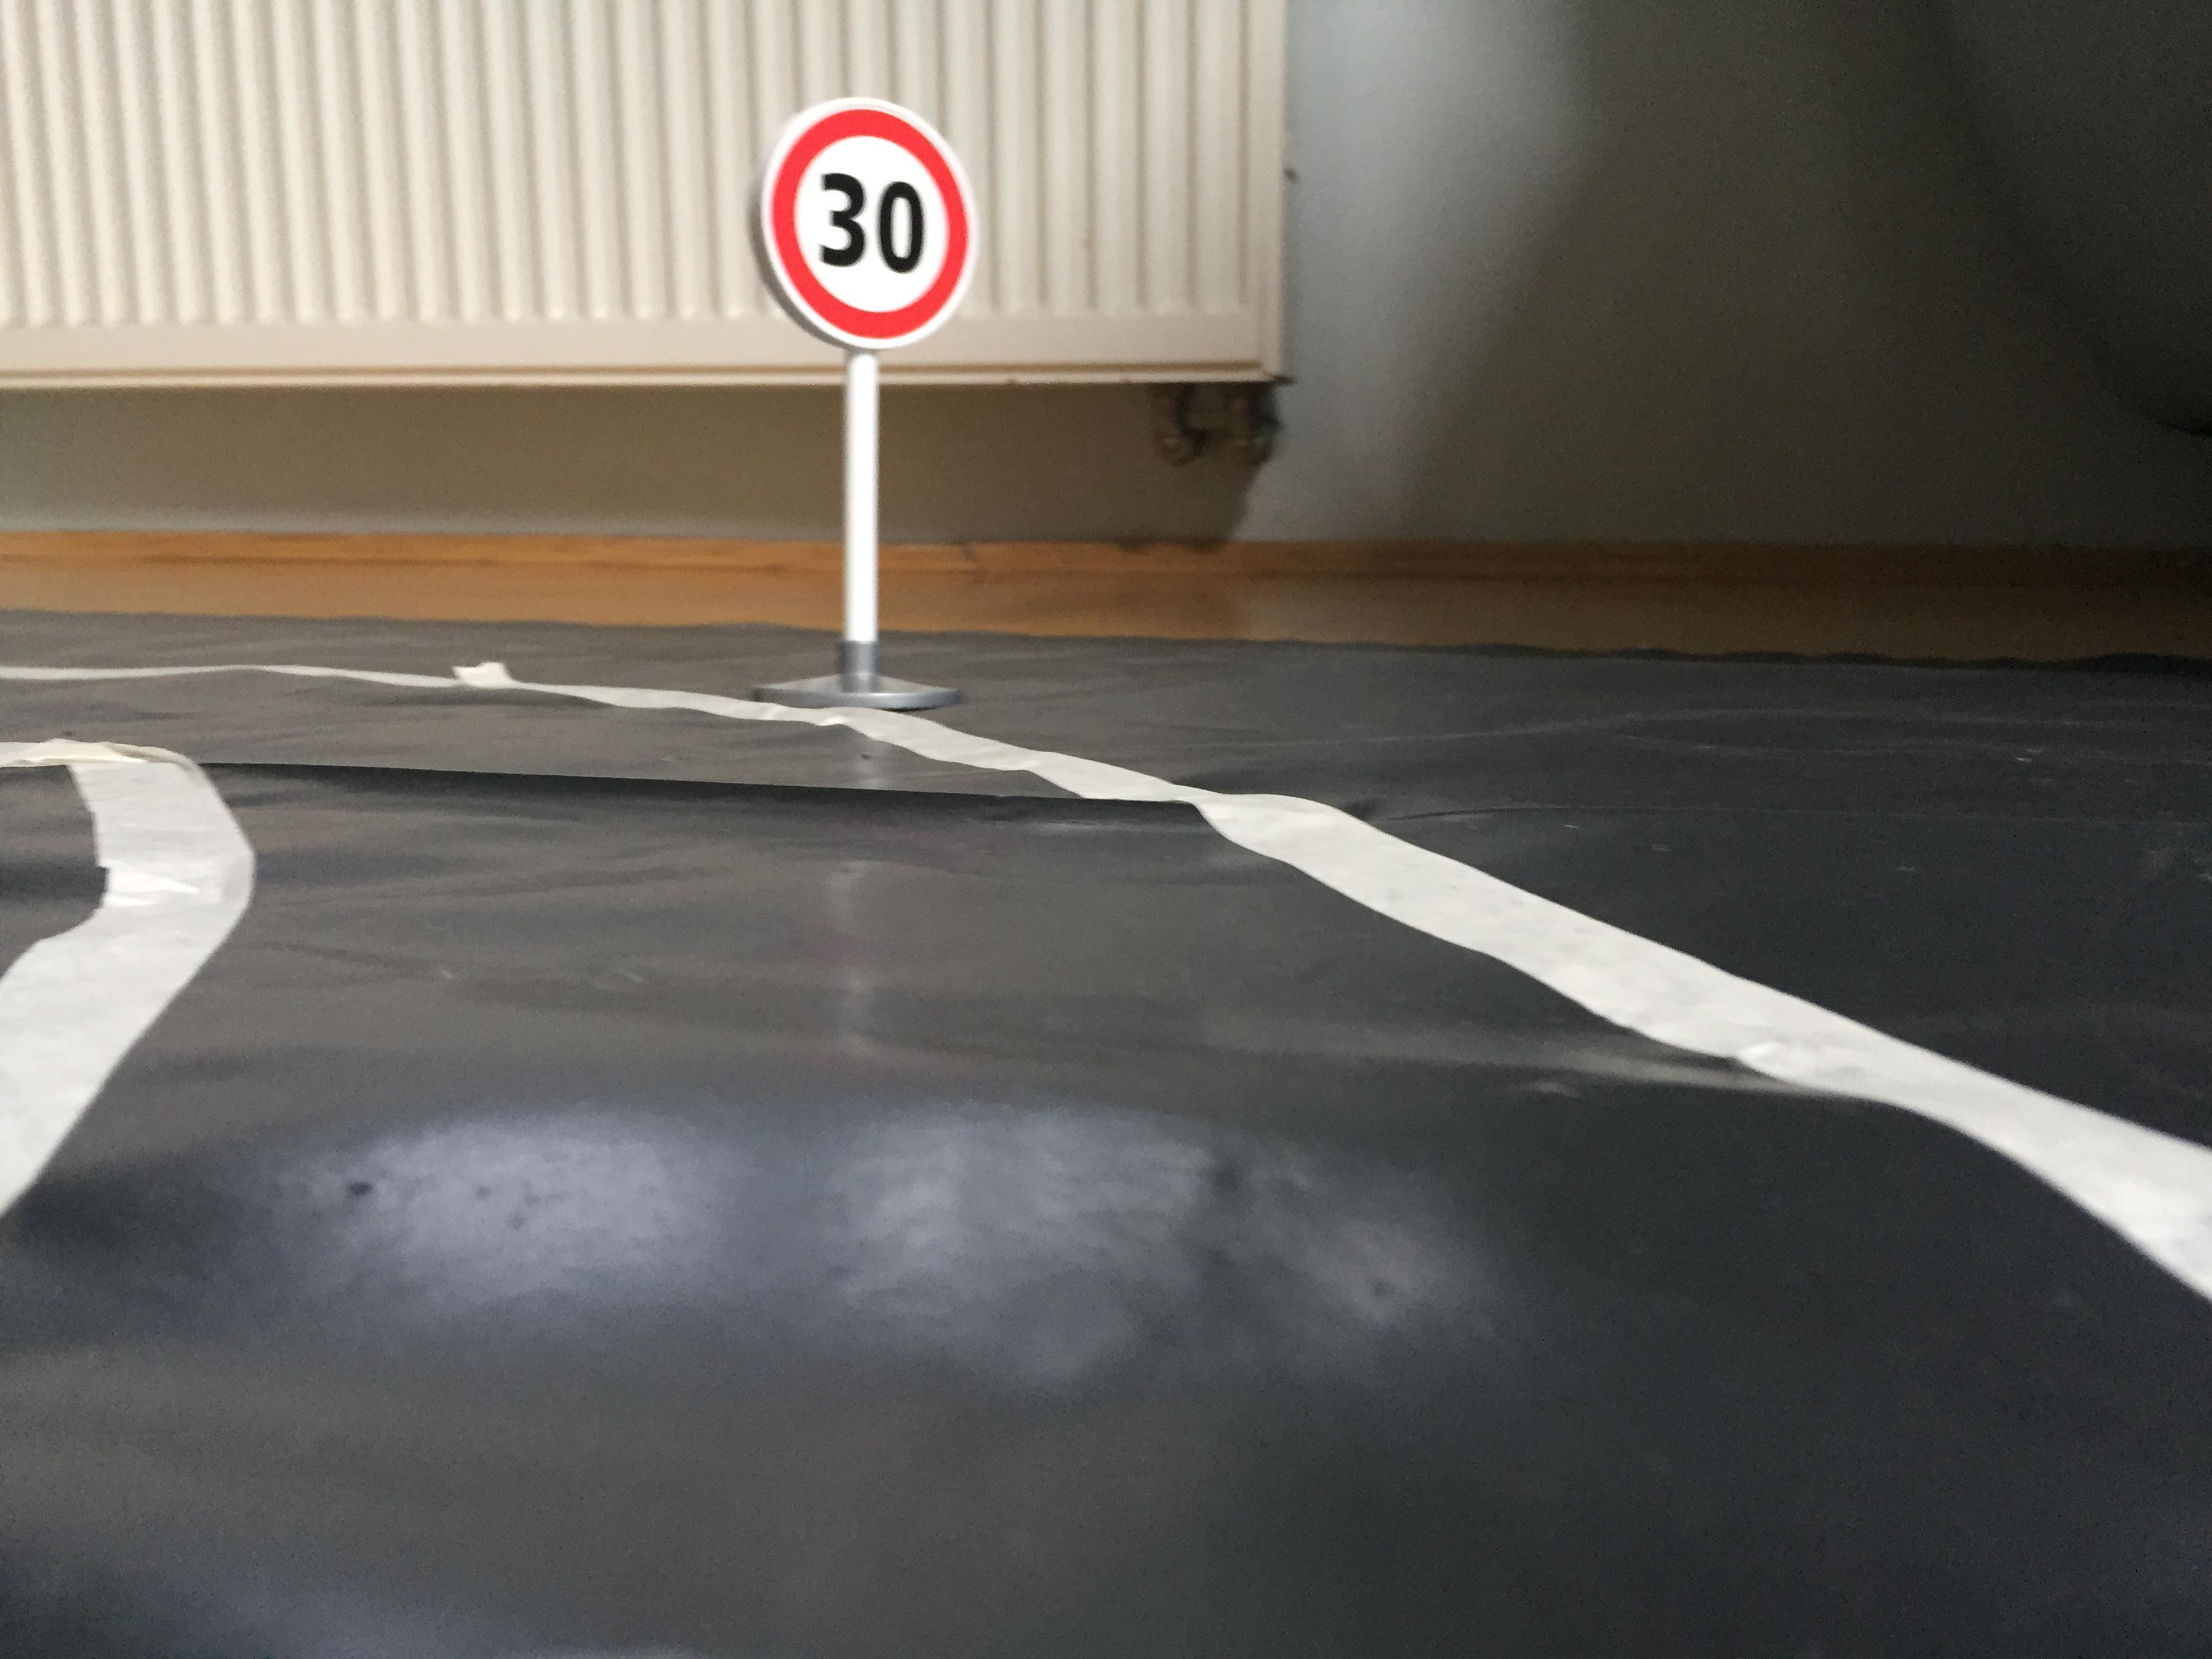speed: (744, 91, 989, 359)
